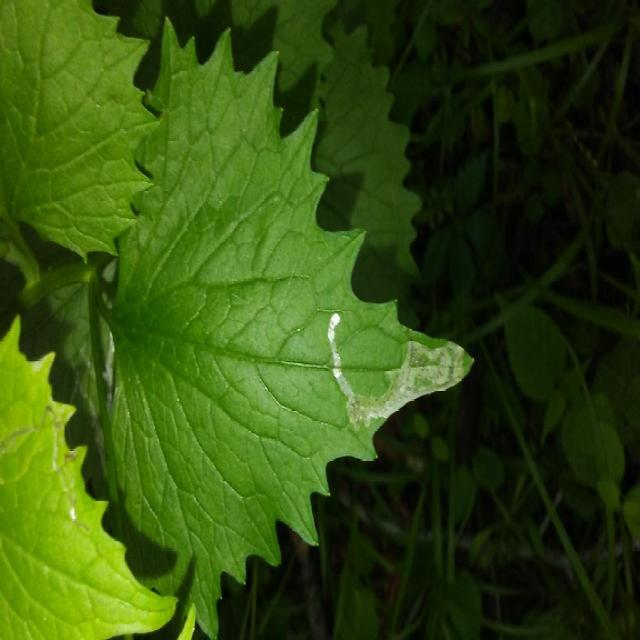Serpentine leafminer: (320, 306, 478, 439)
